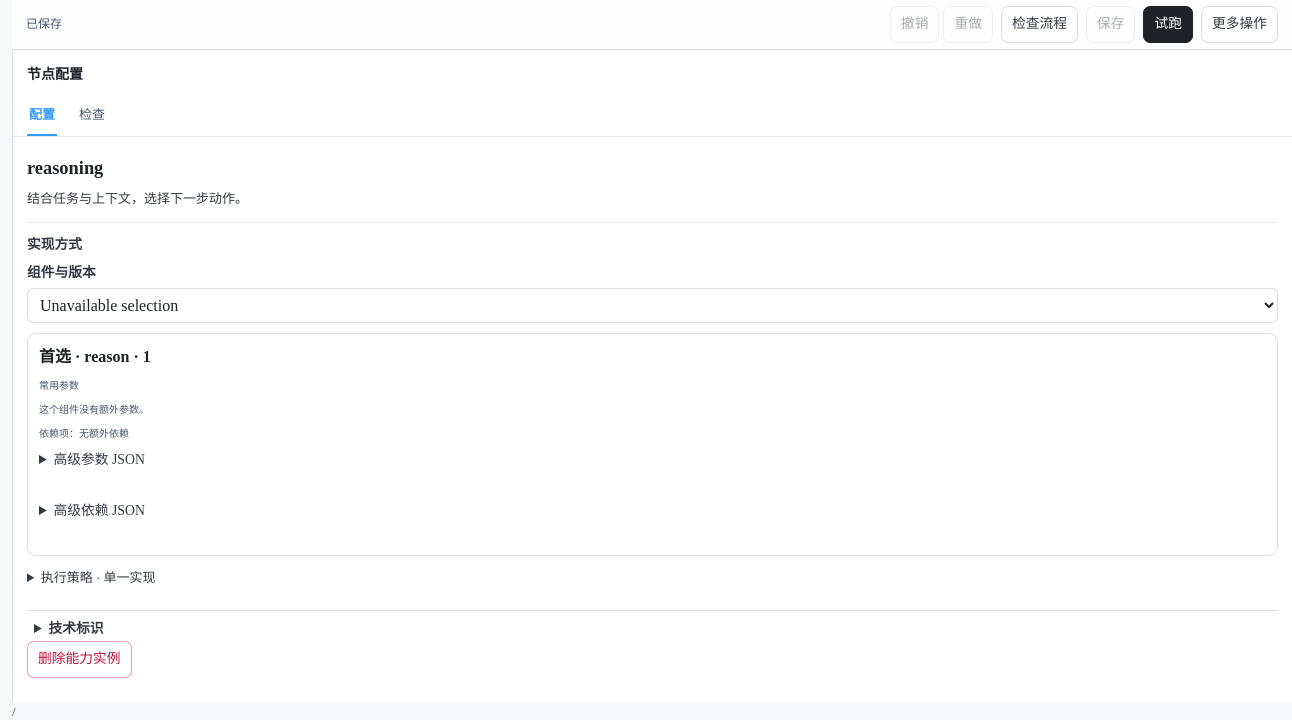
Test case: current-content Builder commands › accepts delayed validation across layout and camera changes
Click the button "检查流程": (1039, 24) [1001, 6, 1078, 43]
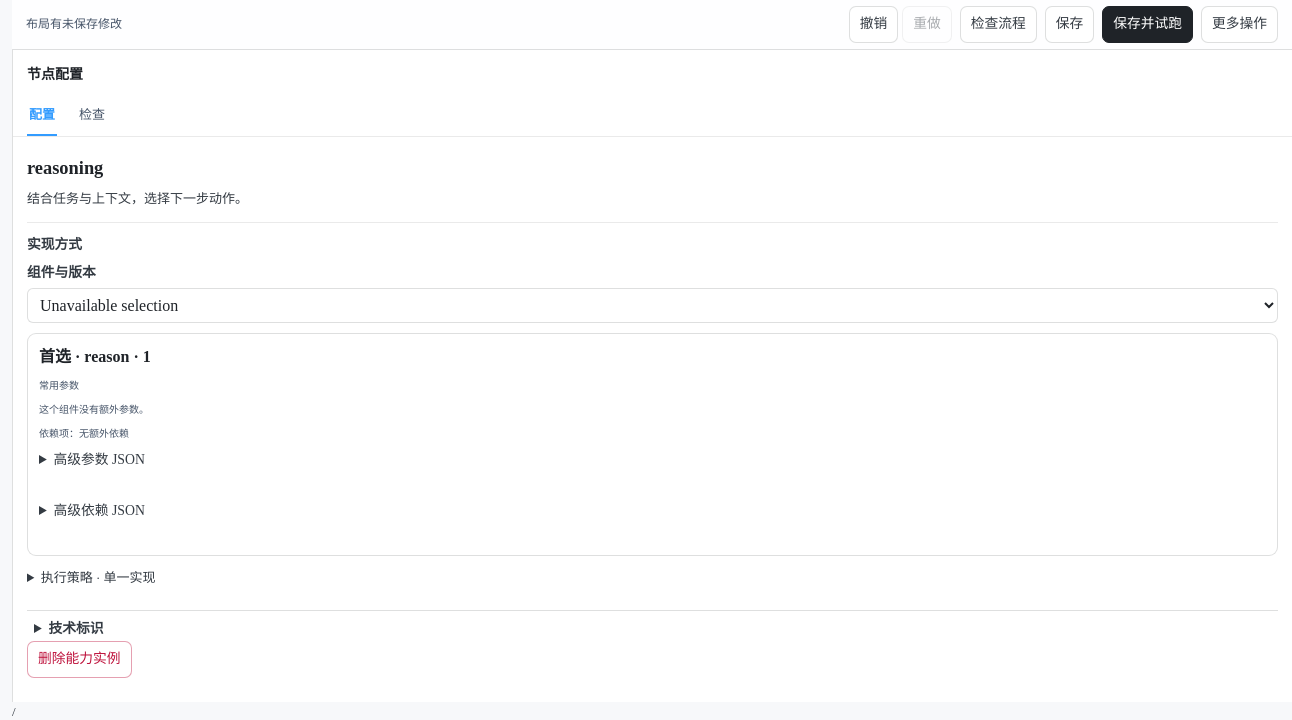
Result: the text "布局有未保存修改" is shown at [26, 15, 122, 33]
